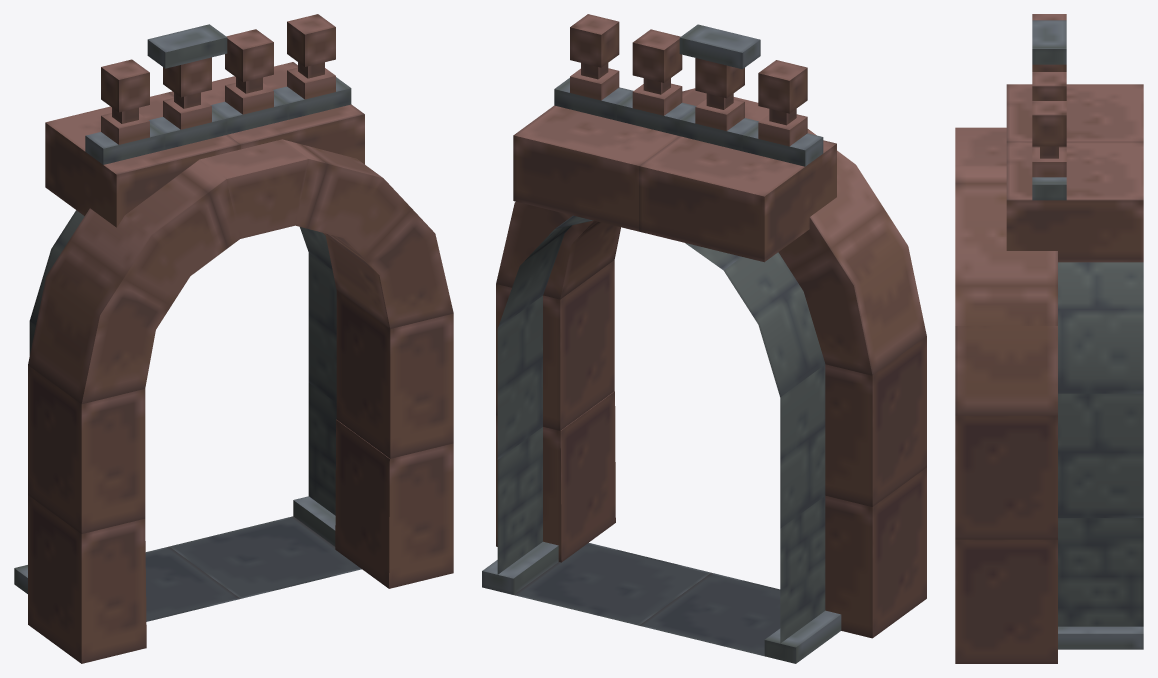
Rendered from arch_medium_3_red.fbx.
3 renders of one model, left to right at view 1: azimuth 30°, elevation 25°; view 2: azimuth 150°, elevation 25°; view 3: azimuth 270°, elevation 25°, orthographic. The views are drawn at different scales.
Parts seen in each view (by area): view 1: arch_medium_3_red; view 2: arch_medium_3_red; view 3: arch_medium_3_red.
Part boxes in pixels (x1,y1,x2,y2): arch_medium_3_red: [14, 14, 453, 663]; arch_medium_3_red: [482, 14, 926, 663]; arch_medium_3_red: [955, 14, 1143, 663].
Size of the model in its own units: 48 by 68 by 22.
